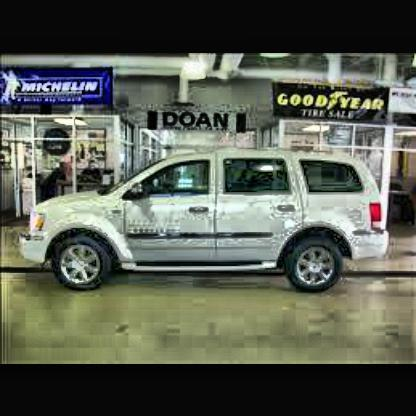Chrysler Aspen SUV 2009: (21, 143, 398, 302)
